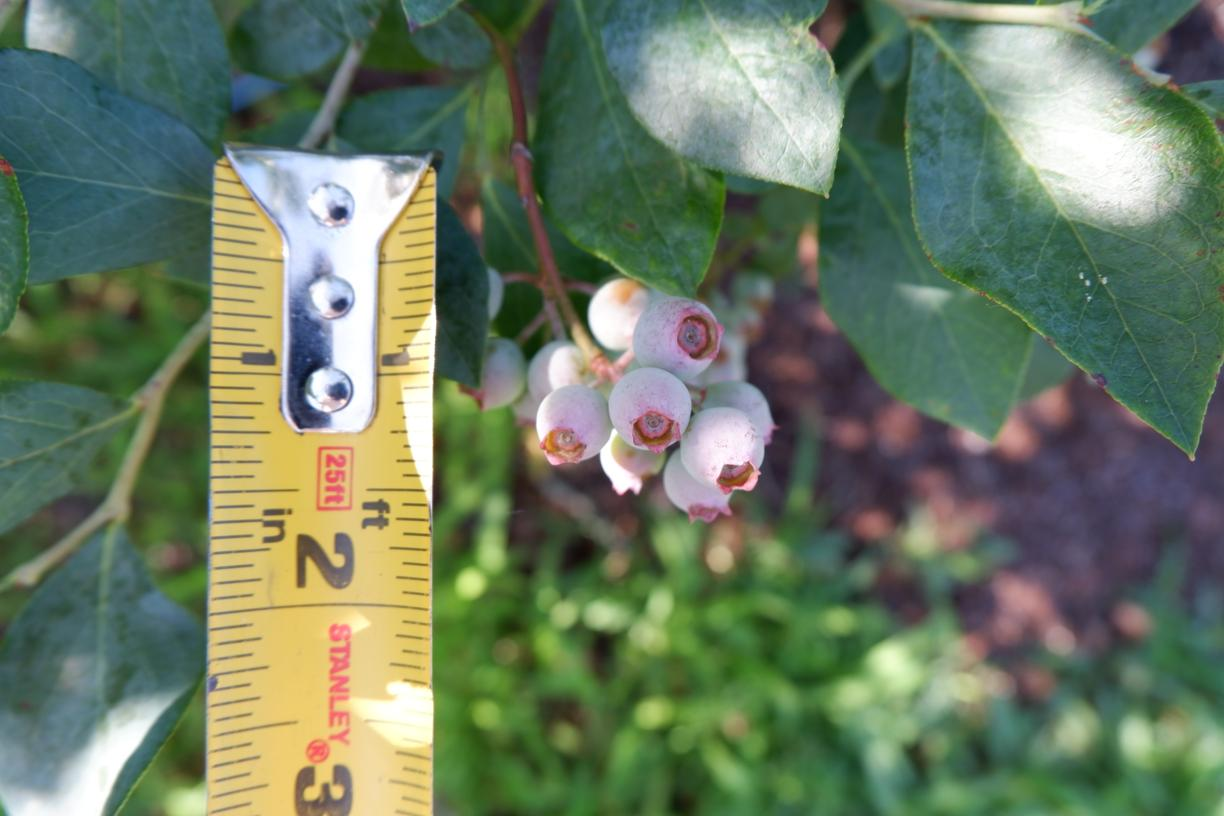Immature: (632, 295, 726, 384), (607, 368, 692, 455), (680, 407, 765, 494), (537, 385, 613, 464), (663, 447, 735, 525), (456, 338, 528, 411), (588, 277, 657, 352), (701, 381, 779, 445), (600, 428, 666, 496), (528, 340, 590, 405), (511, 388, 541, 428), (485, 265, 505, 321)
